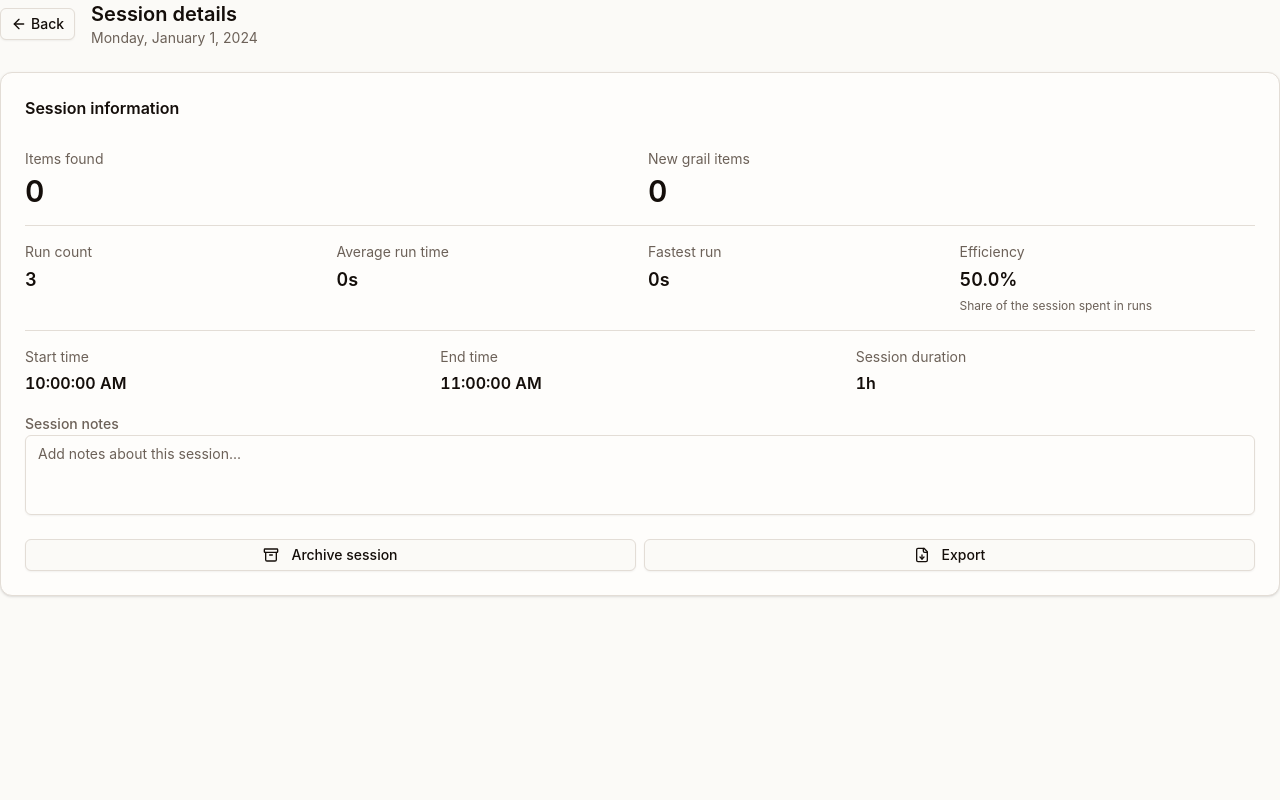
it: SessionDetailView › When Archive Session is clicked › If the confirmation is cancelled, Then the session is not archived
Click the button "Archive session" at (330, 555), box [25, 539, 636, 571]
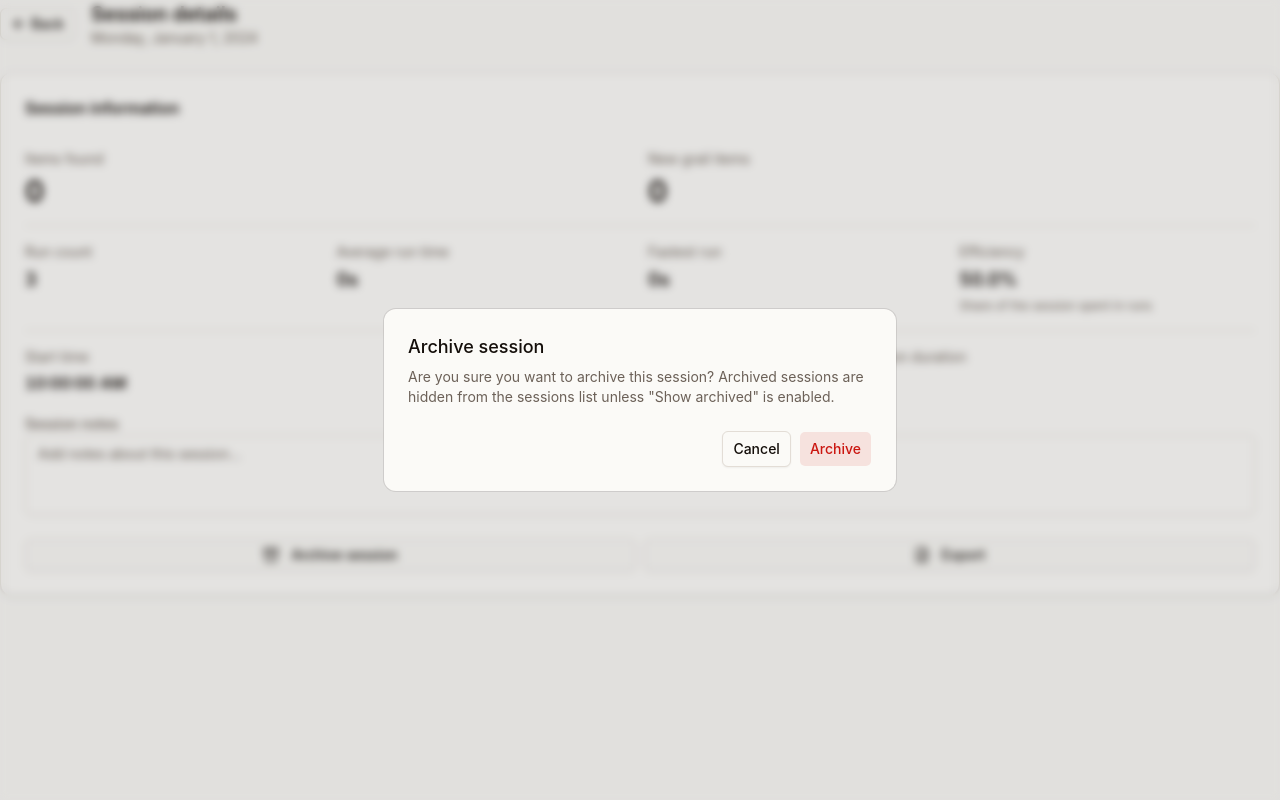
Click the button "Cancel" at (757, 449), box [722, 431, 791, 467]
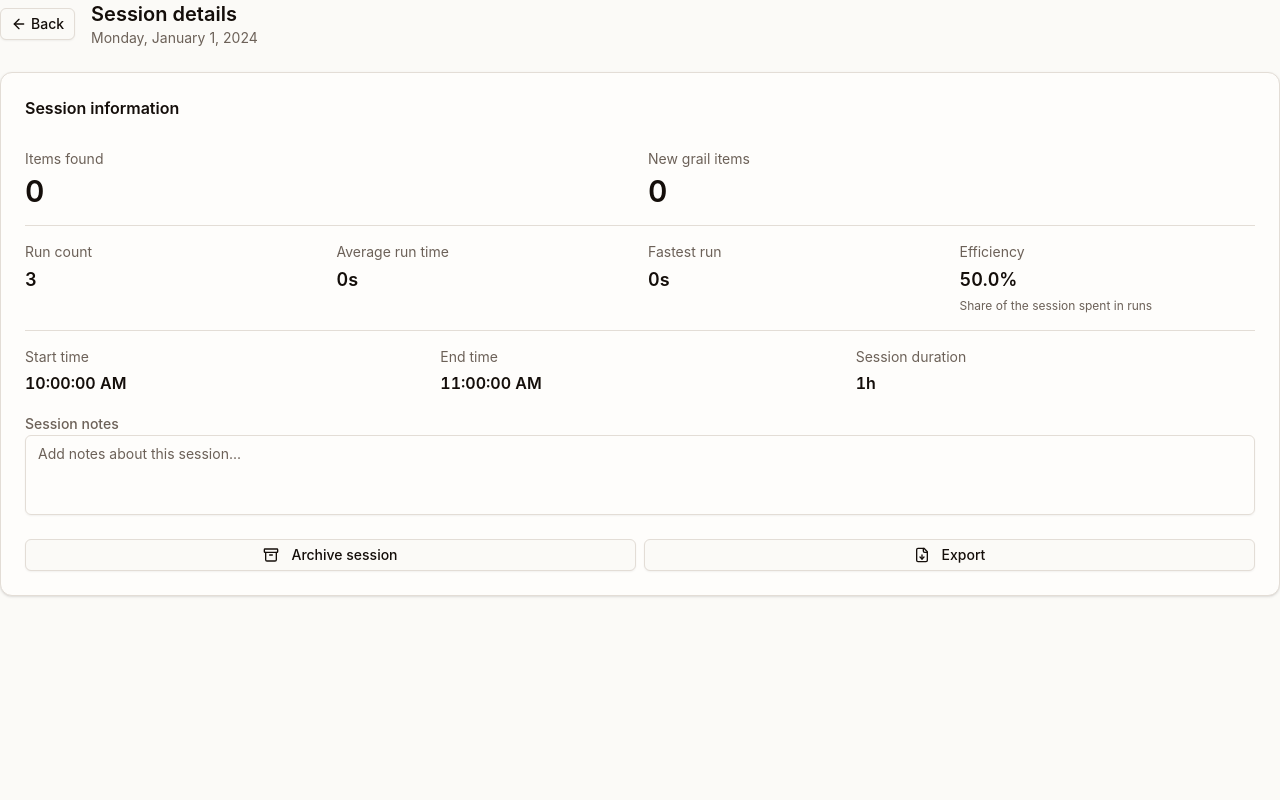
Expected: the dialog is gone
